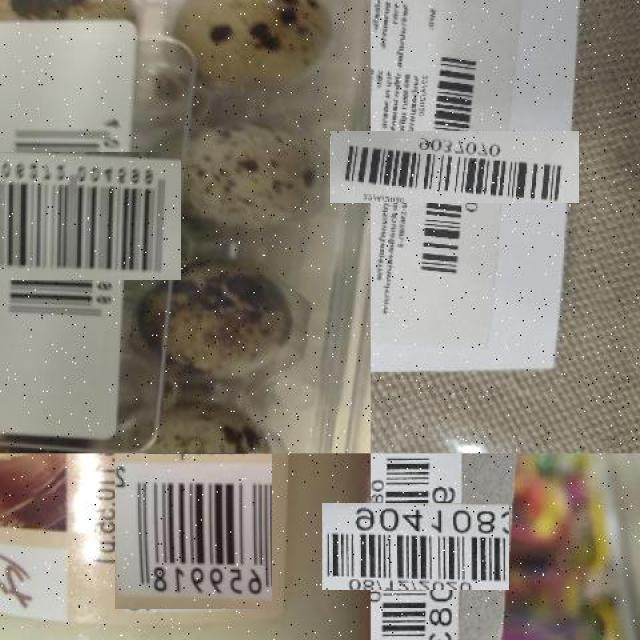Barcode: (0, 125, 155, 306), (374, 86, 535, 247), (115, 454, 272, 610), (347, 478, 485, 615)
